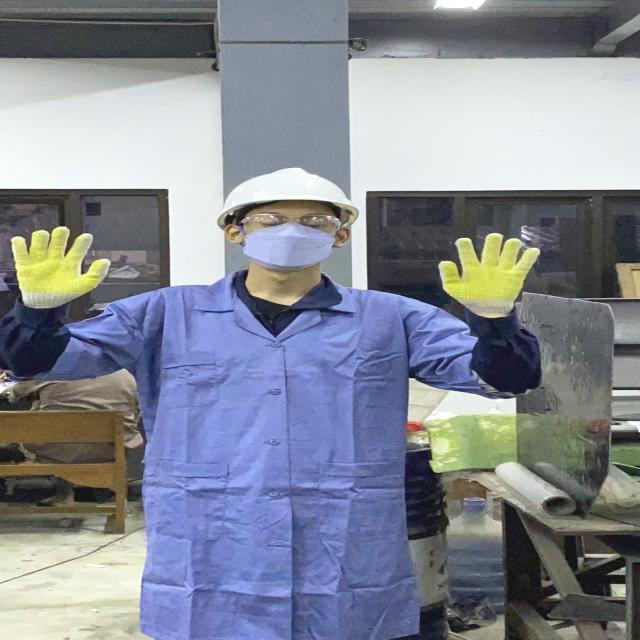face_mask: (241, 209, 344, 271)
glasses: (233, 210, 350, 233)
hand_glove: (425, 230, 548, 311), (2, 221, 122, 304)
head_helmet: (216, 165, 367, 219)
person: (0, 155, 556, 639)
